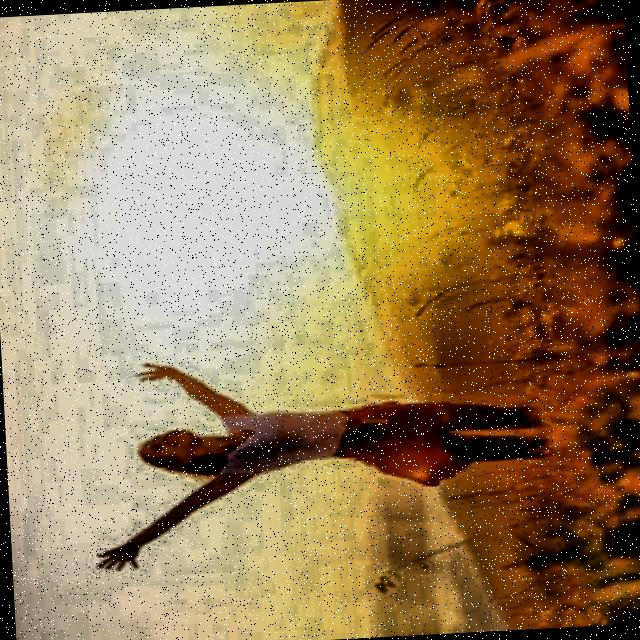happy: (119, 422, 231, 480)
